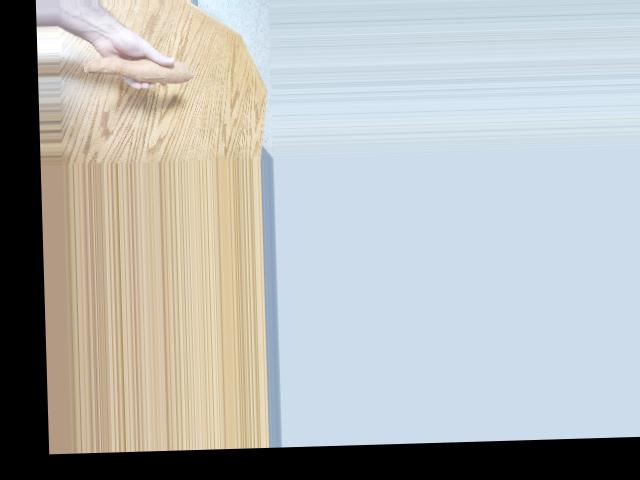sweet_potato: (78, 52, 195, 89)
